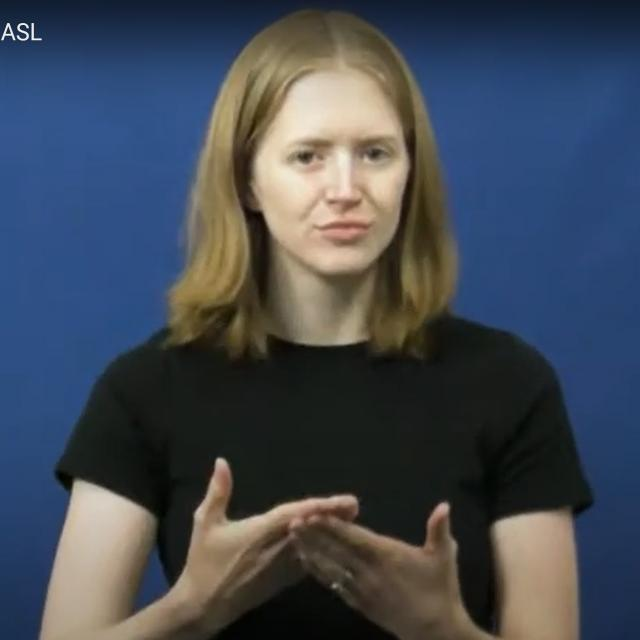good: (185, 457, 462, 632)
